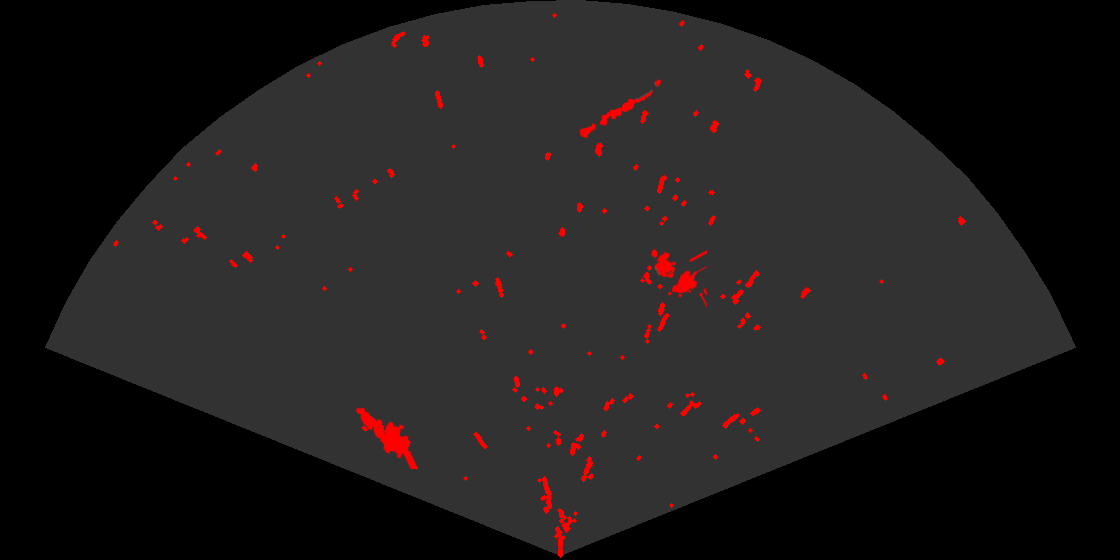cage: (653, 248, 707, 309)
chain: (578, 78, 663, 140)
frogman: (354, 406, 420, 469)
